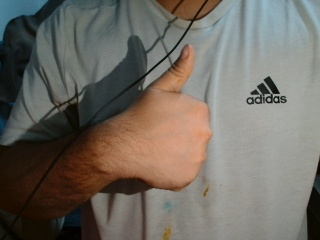Adelante: (75, 46, 230, 199)
